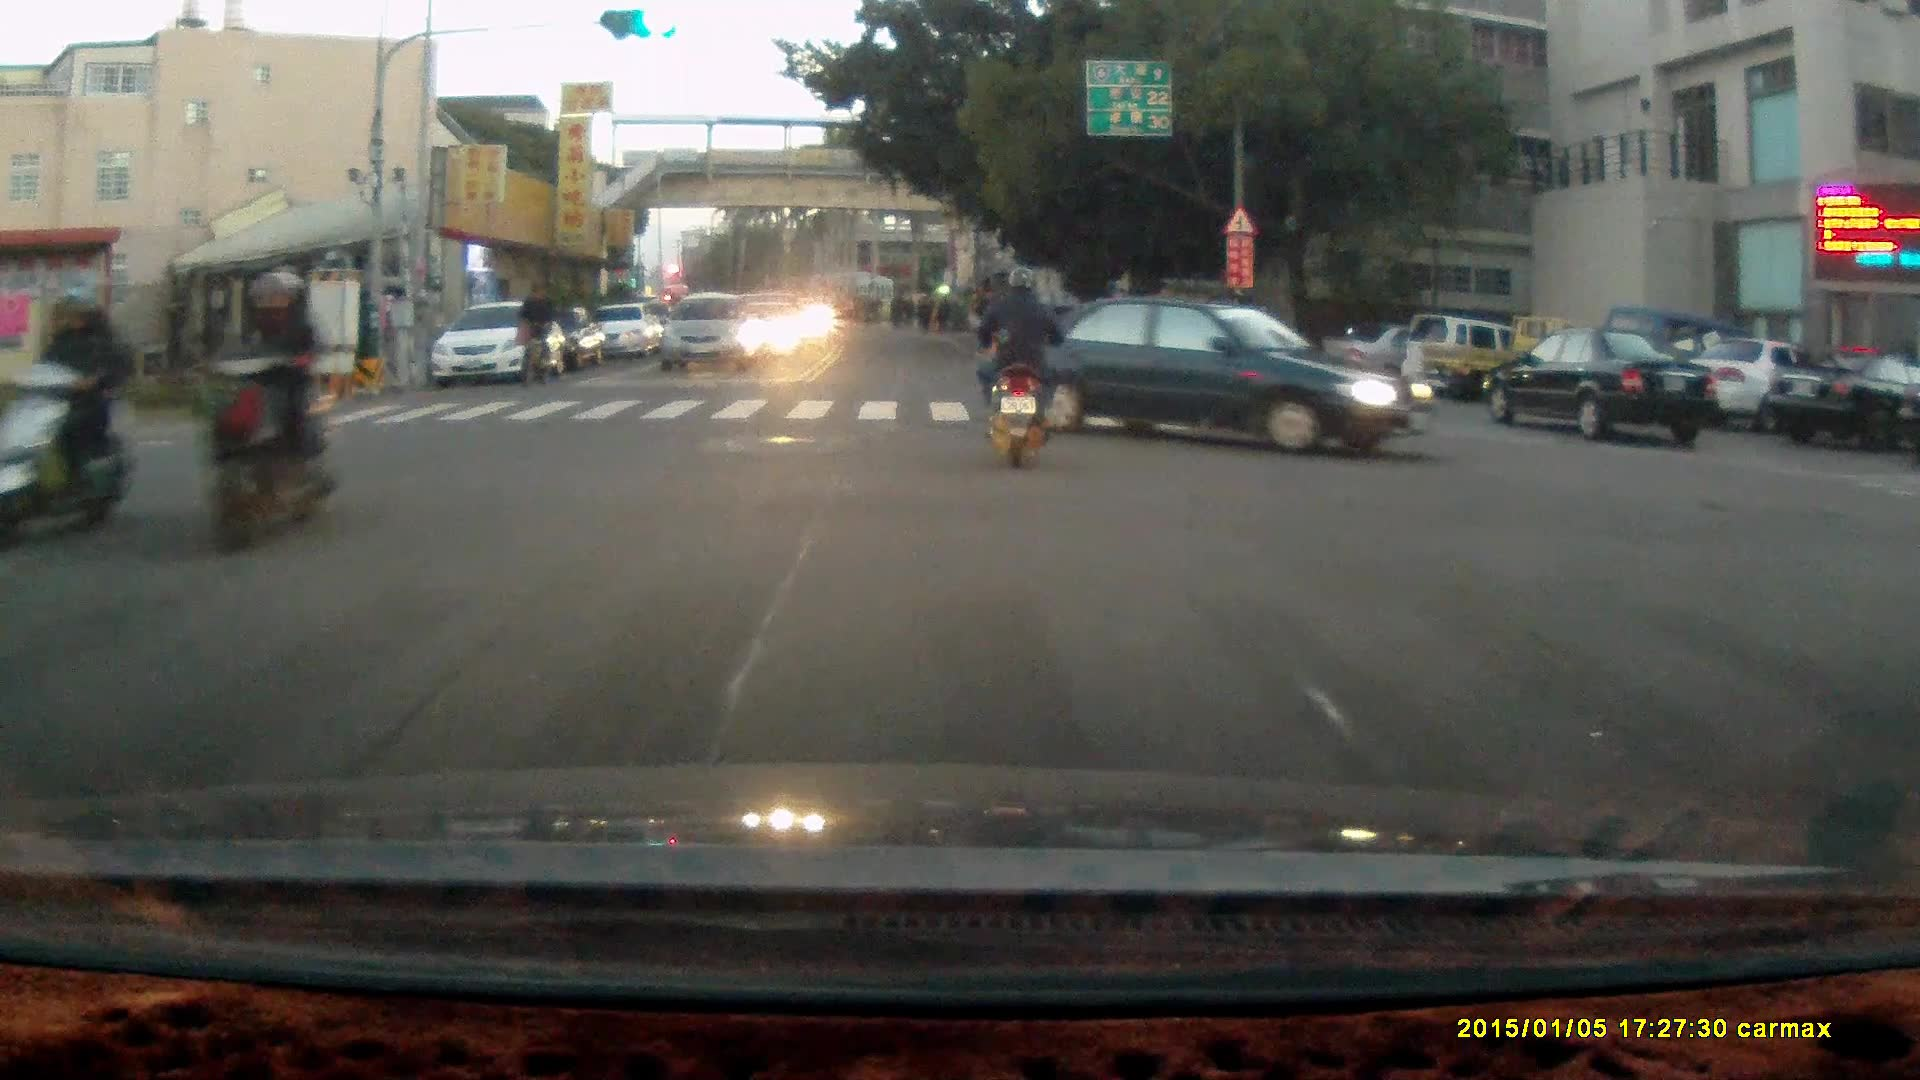rider: (195, 265, 341, 561), (3, 279, 131, 549), (973, 266, 1066, 468), (514, 279, 555, 384)
vehicle: (970, 289, 1429, 463), (1486, 330, 1720, 447), (1410, 315, 1631, 407), (1670, 336, 1859, 438), (1765, 352, 1920, 453), (430, 293, 569, 382), (658, 294, 763, 375)
